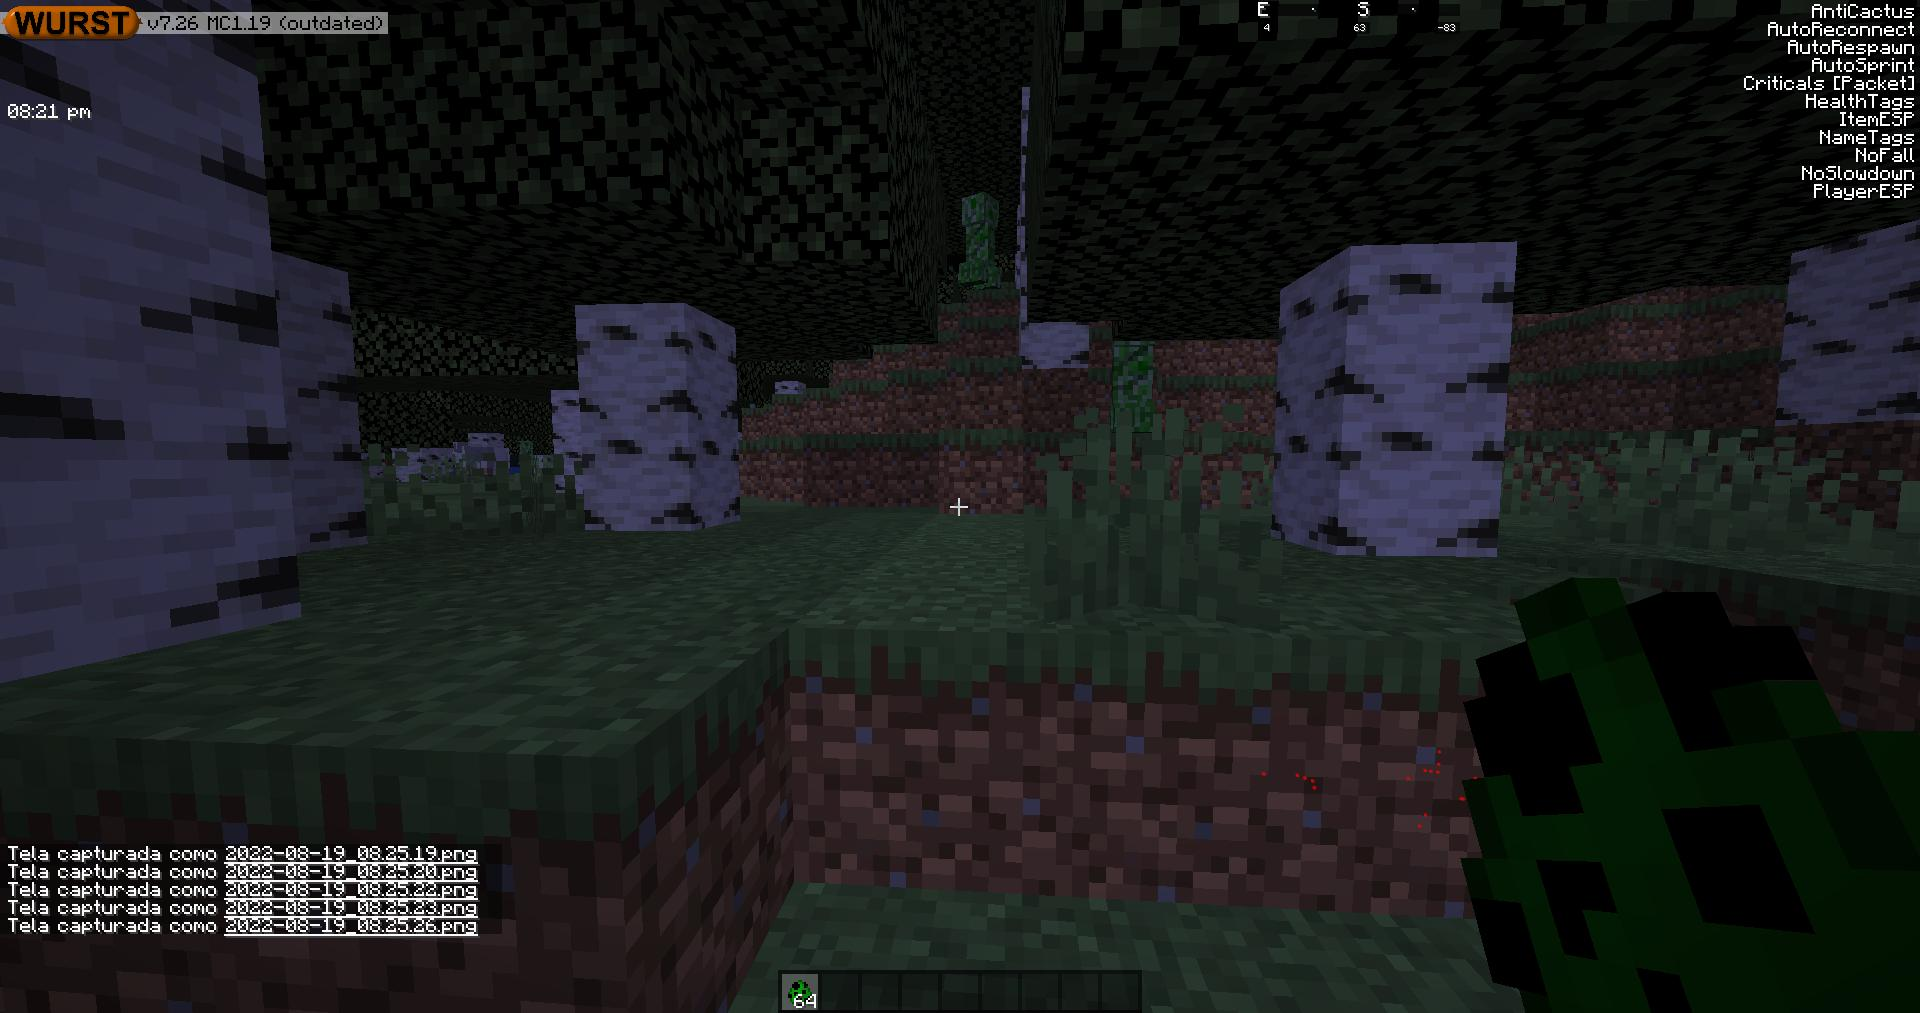creeper: (1106, 336, 1156, 428), (957, 190, 1002, 286)
